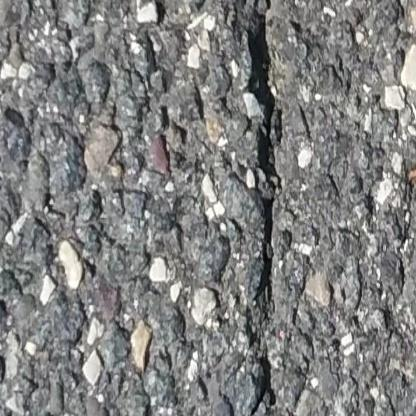Cracks: (242, 18, 284, 306), (230, 350, 281, 416)
